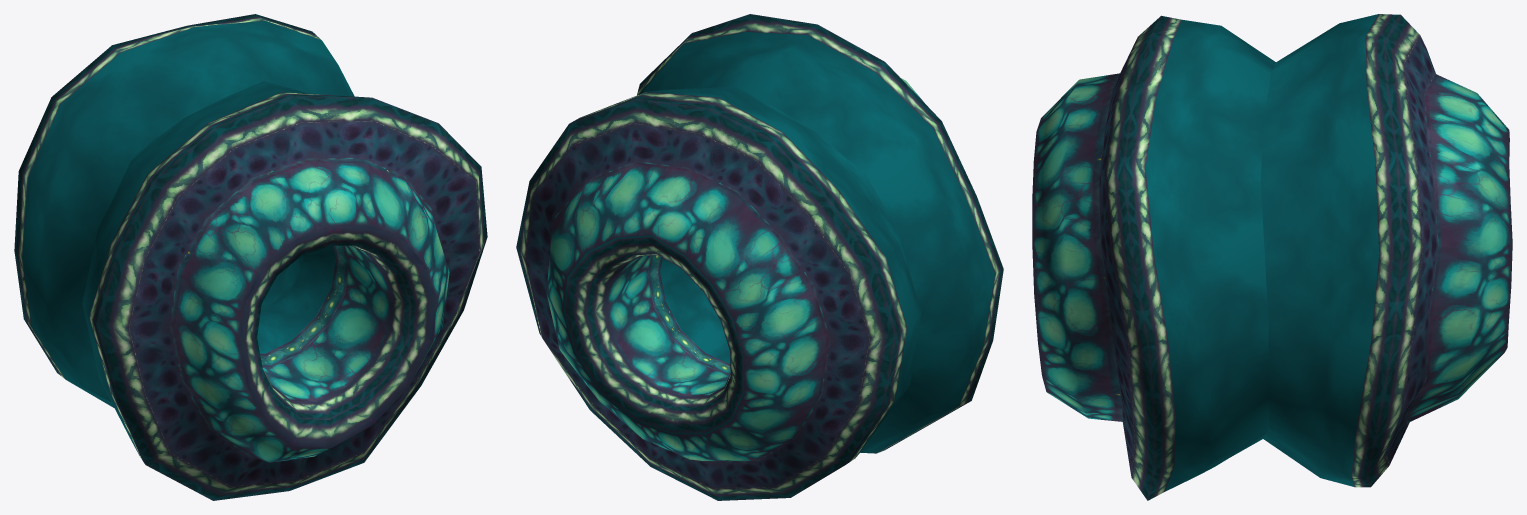
File: Bio_Core_02.fbx
3 renders of one model, left to right at view 1: azimuth 30°, elevation 25°; view 2: azimuth 150°, elevation 25°; view 3: azimuth 270°, elevation 25°, orthographic. The views are drawn at different scales.
Parts seen in each view (by area): view 1: Bio_Core_02; view 2: Bio_Core_02; view 3: Bio_Core_02.
Boxes of the visible parts, x1,y1,x2,y2 form: Bio_Core_02: (14,14,487,500); Bio_Core_02: (516,14,1003,500); Bio_Core_02: (1032,14,1512,500).
Size of the model in its own units: 3.19 by 3.16 by 3.11.
